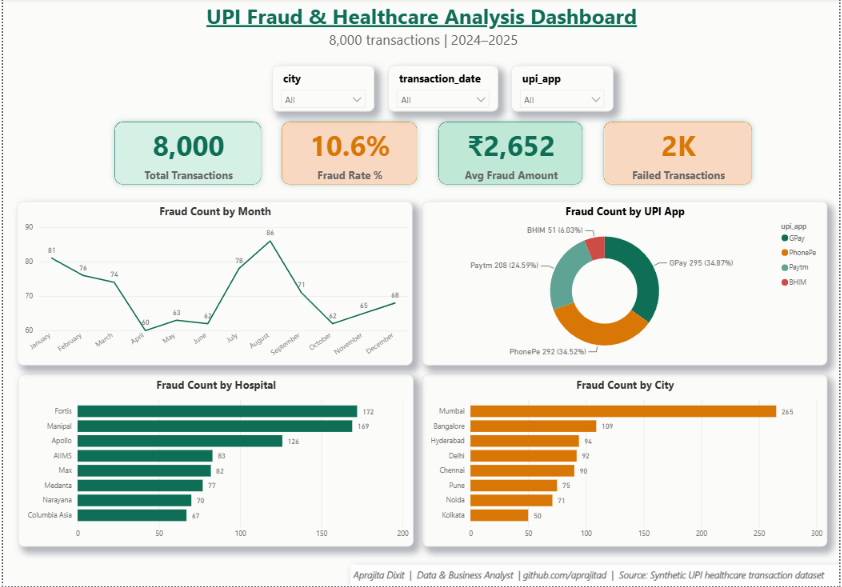

What the dashboard file says about the page in this screenshot:
{"tool":"powerbi","page":{"name":"Page 1","canvas":[1280,720],"ordinal":0},"visuals":[{"type":"card","title":"Total Transactions","fields":{"Values":["CountNonNull(upi_fraud_healthcare_cleaned csv.transaction_id)"]},"box":[32,80,176,64],"z":0},{"type":"card","title":"Total Fraud Transactions","fields":{"Values":["CountNonNull(upi_fraud_healthcare_cleaned csv.transaction_id)"]},"box":[32,160,176,80],"z":1000},{"type":"card","title":"Total Transaction Amount","fields":{"Values":["Sum(upi_fraud_healthcare_cleaned csv.amount)"]},"box":[32,256,176,80],"z":2000},{"type":"clusteredBarChart","title":"Fraud Cases by Hospital","fields":{"Y":["upi_fraud_healthcare_cleaned csv.Fraud Transactions","CountNonNull(upi_fraud_healthcare_cleaned csv.transaction_id)"],"Category":["upi_fraud_healthcare_cleaned csv.hospital_name"]},"box":[416,352,480,336],"z":3000},{"type":"donutChart","title":"Fraud Distribution by UPI App","fields":{"Category":["upi_fraud_healthcare_cleaned csv.upi_app"],"Y":["CountNonNull(upi_fraud_healthcare_cleaned csv.transaction_id)"]},"box":[909.8,352.2,337.5,342.4],"z":4000},{"type":"lineChart","title":"Fraud Trend Over Time","fields":{"Category":["upi_fraud_healthcare_cleaned csv.transaction_date"],"Y":["CountNonNull(upi_fraud_healthcare_cleaned csv.transaction_id)"]},"box":[32,352,368,336],"z":5000},{"type":"slicer","title":"Transaction Status","fields":{"Values":["upi_fraud_healthcare_cleaned csv.transaction_status"]},"box":[1088,64,160,80],"z":6000},{"type":"slicer","title":"UPI App","fields":{"Values":["upi_fraud_healthcare_cleaned csv.upi_app"]},"box":[1088,160,160,80],"z":7000},{"type":"slicer","title":"Hospital","fields":{"Values":["upi_fraud_healthcare_cleaned csv.hospital_name"]},"box":[1088,256,160,80],"z":8000},{"type":"textbox","box":[224,16,848,96],"z":9000}]}

Visuals, with their boxes on the page's 1280x720 design canvas (x1, y1, x2, y2). These are canvas units, not pixel positions in the 842x587 screenshot, which may show the page scaled, cropped or inside an application window:
"Total Transactions" card: <box>32,80,208,144</box>
"Total Fraud Transactions" card: <box>32,160,208,240</box>
"Total Transaction Amount" card: <box>32,256,208,336</box>
"Fraud Cases by Hospital" clusteredBarChart: <box>416,352,896,688</box>
"Fraud Distribution by UPI App" donutChart: <box>910,352,1247,695</box>
"Fraud Trend Over Time" lineChart: <box>32,352,400,688</box>
"Transaction Status" slicer: <box>1088,64,1248,144</box>
"UPI App" slicer: <box>1088,160,1248,240</box>
"Hospital" slicer: <box>1088,256,1248,336</box>
textbox: <box>224,16,1072,112</box>
